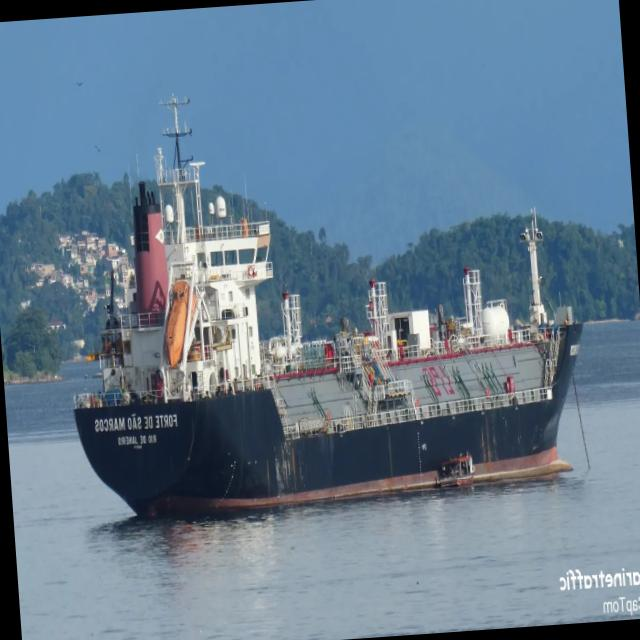Tanker: (74, 96, 582, 514)
